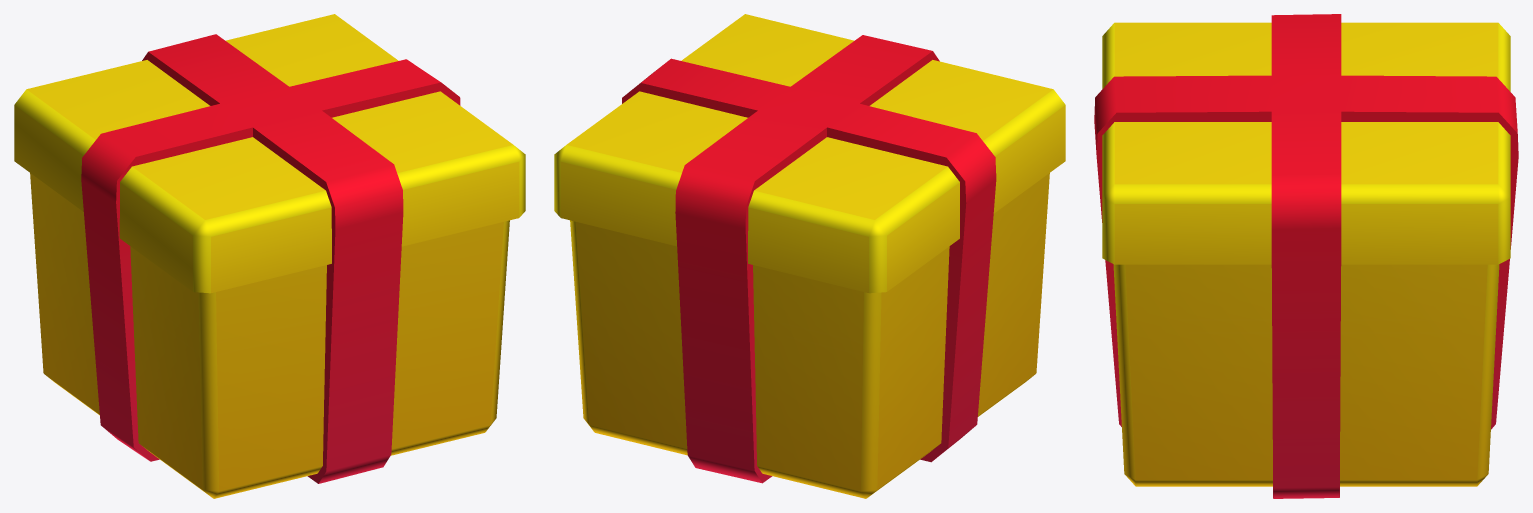
File: giftbox_056.fbx
3 renders of one model, left to right at view 1: azimuth 30°, elevation 25°; view 2: azimuth 150°, elevation 25°; view 3: azimuth 270°, elevation 25°, orthographic. The views are drawn at different scales.
Visible parts, largest first — view 1: giftbox_056; view 2: giftbox_056; view 3: giftbox_056.
Boxes of the visible parts, box(x1,y1,x2,y2) form: giftbox_056: box(14, 14, 525, 498); giftbox_056: box(554, 14, 1065, 498); giftbox_056: box(1094, 14, 1518, 498).
Bounding box in the file's own units: 181 × 179 × 155.
